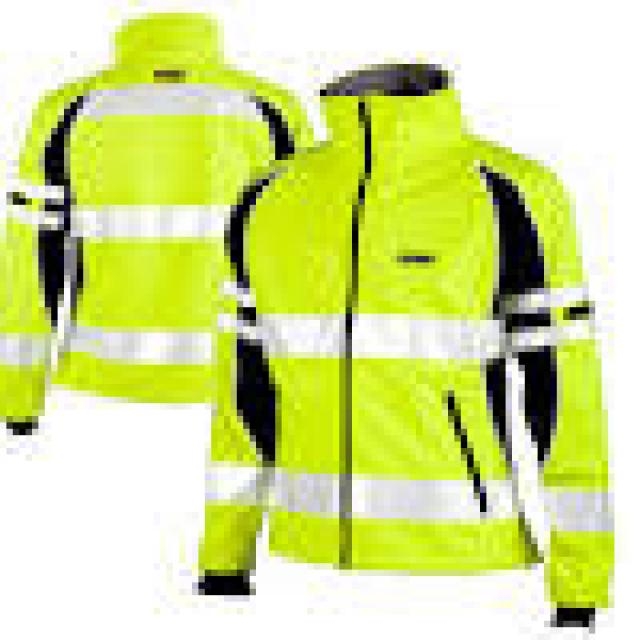Reflective-Jacket: (192, 77, 627, 614), (22, 4, 340, 442)
